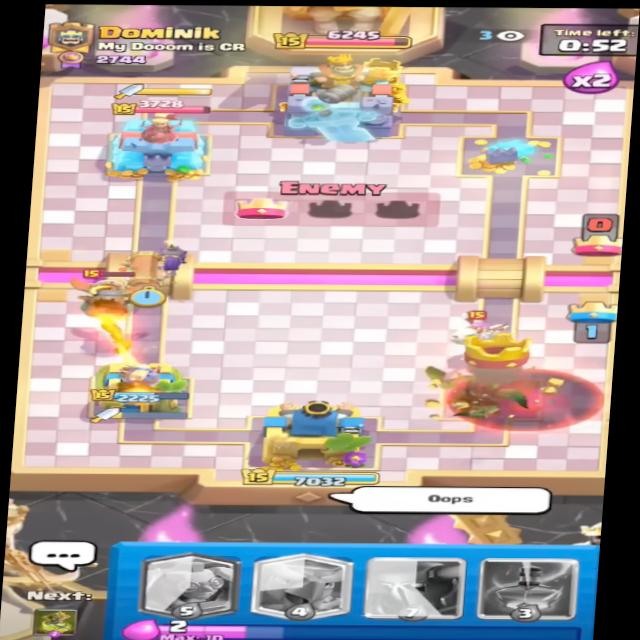inferno-dragon: (63, 268, 159, 323)
skeleton-dragon: (446, 307, 518, 350)
void: (456, 369, 606, 433)
